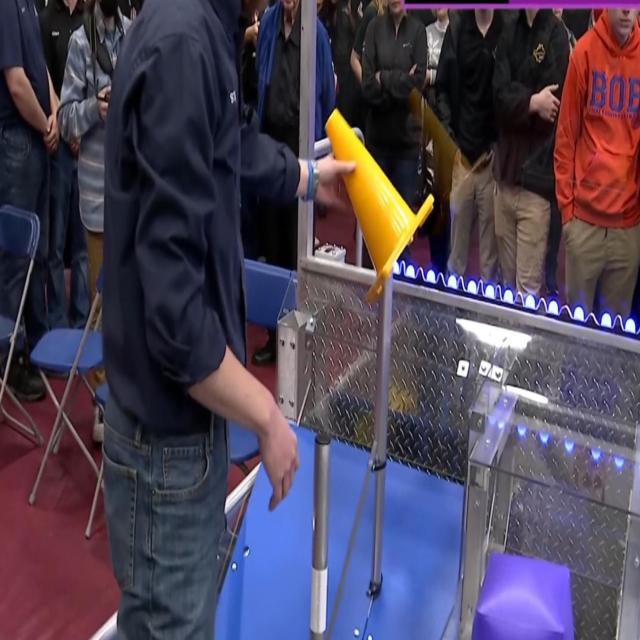frc_cone: (318, 108, 431, 304)
frc_cube: (473, 557, 575, 640)
